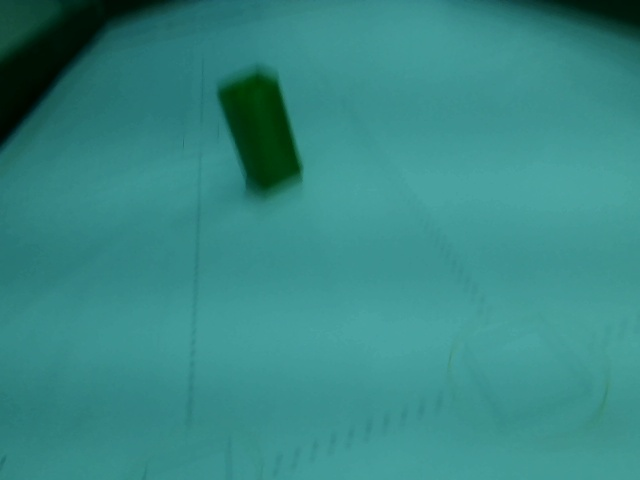green: (221, 82, 299, 178)
